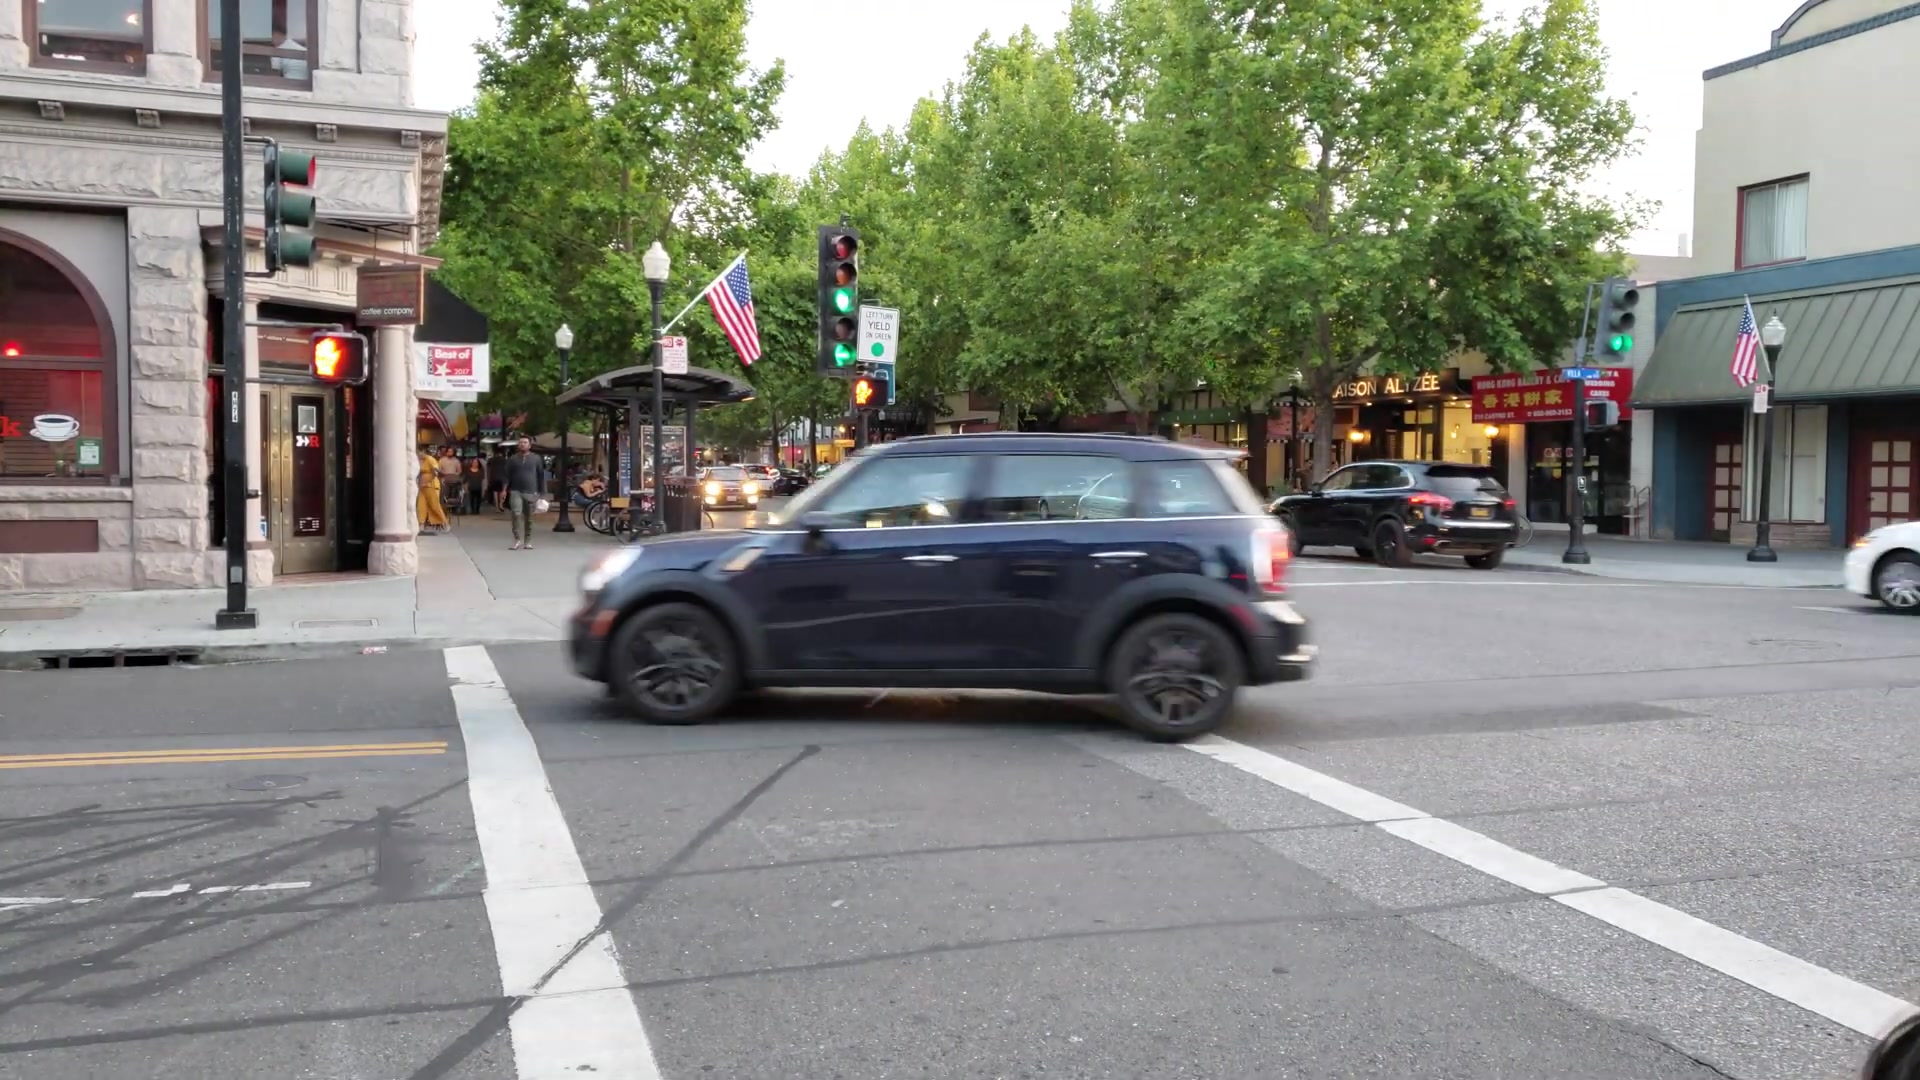vehicle: (560, 434, 1321, 744), (1273, 459, 1519, 570)
